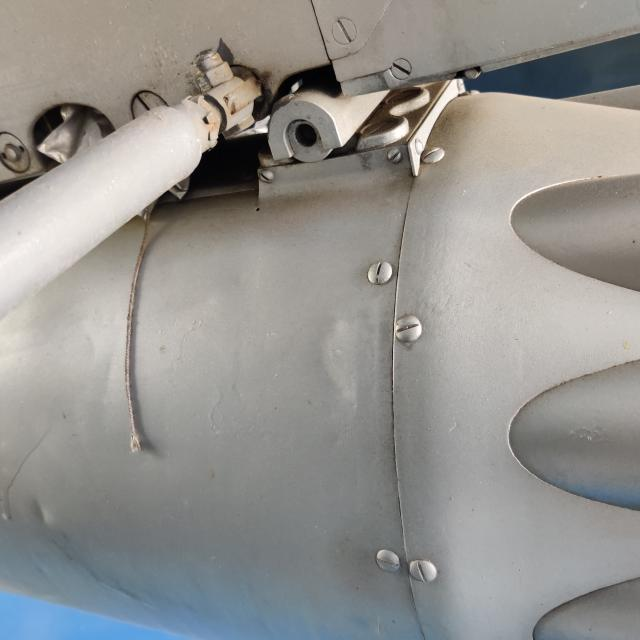dent: (301, 305, 380, 414)
